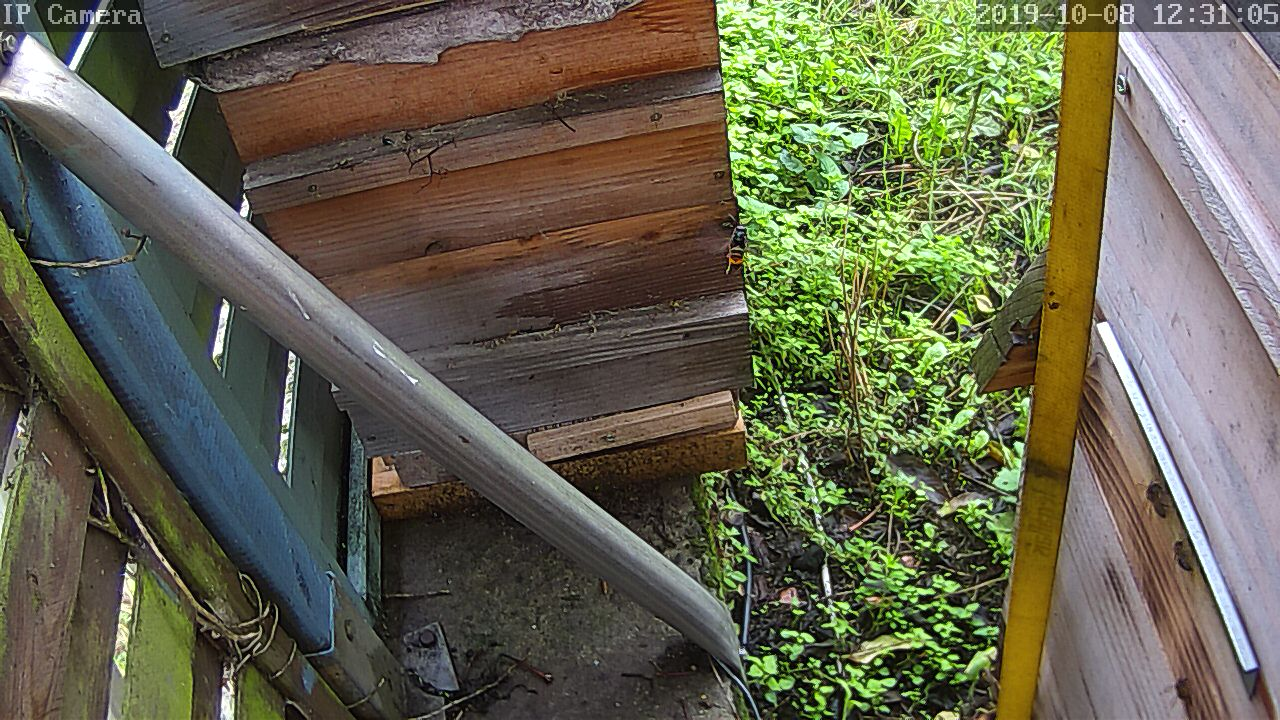bee: (1136, 469, 1180, 521), (1161, 527, 1199, 571)
hornet: (716, 218, 757, 270)
